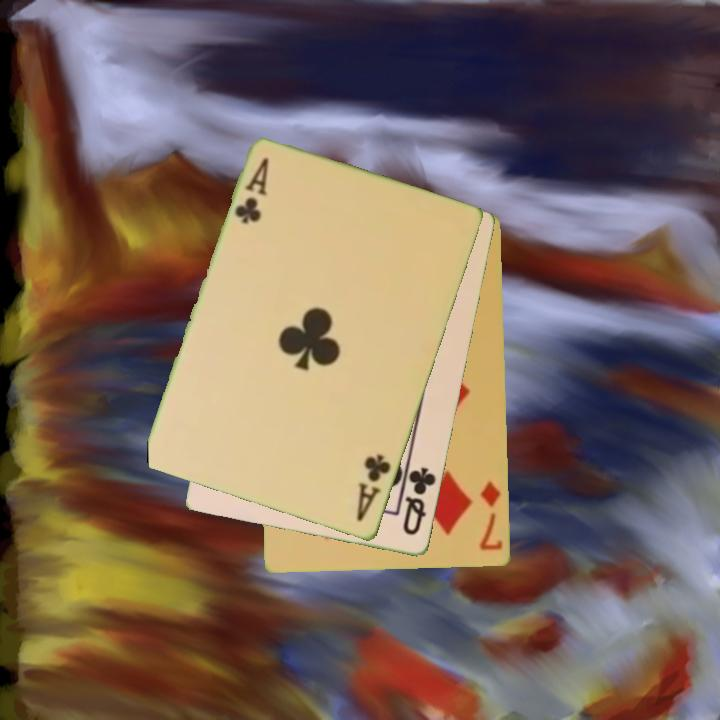7d: (476, 478, 506, 554)
Ac: (353, 451, 394, 526), (231, 154, 272, 228)
Qc: (399, 459, 439, 539)
